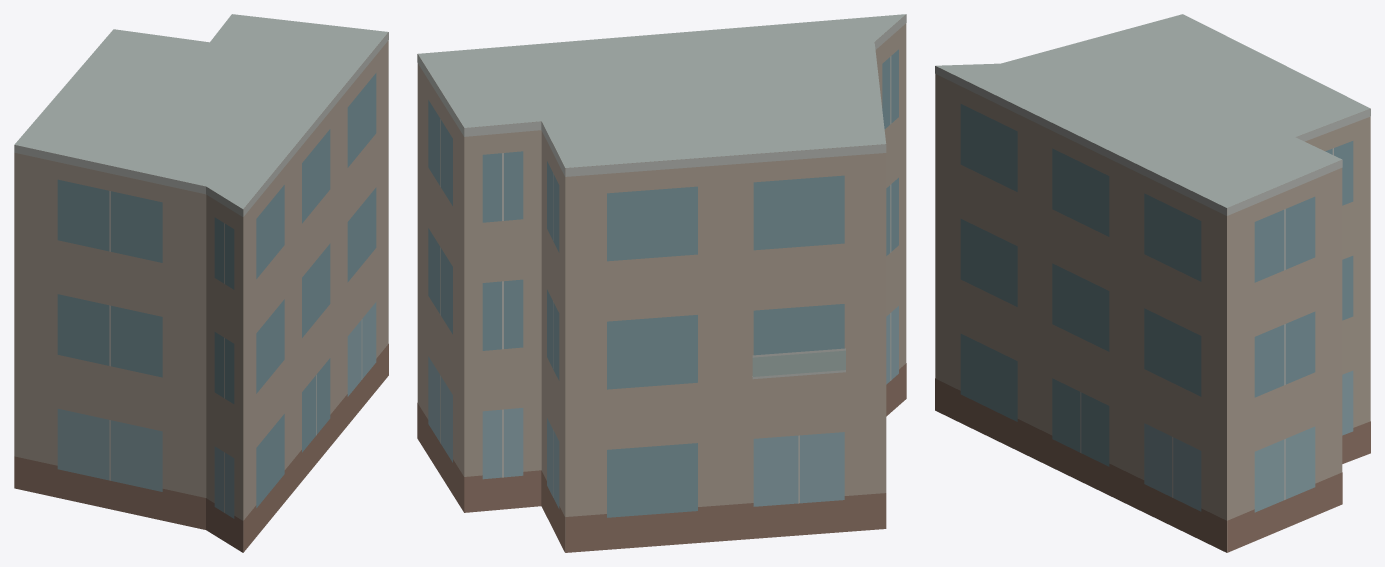
File: survey-upis-32470980.glb
3 renders of one model, left to right at view 1: azimuth 30°, elevation 25°; view 2: azimuth 150°, elevation 25°; view 3: azimuth 270°, elevation 25°, orthographic. The views are drawn at different scales.
Parts seen in each view (by area): view 1: survey-upis-32470980.tmp; view 2: survey-upis-32470980.tmp; view 3: survey-upis-32470980.tmp.
Boxes of the visible parts, x1,y1,x2,y2 form: survey-upis-32470980.tmp: (14, 14, 388, 552); survey-upis-32470980.tmp: (417, 14, 906, 552); survey-upis-32470980.tmp: (935, 14, 1370, 552).
Size of the model in its own units: 12.81 by 10.6 by 12.15.
